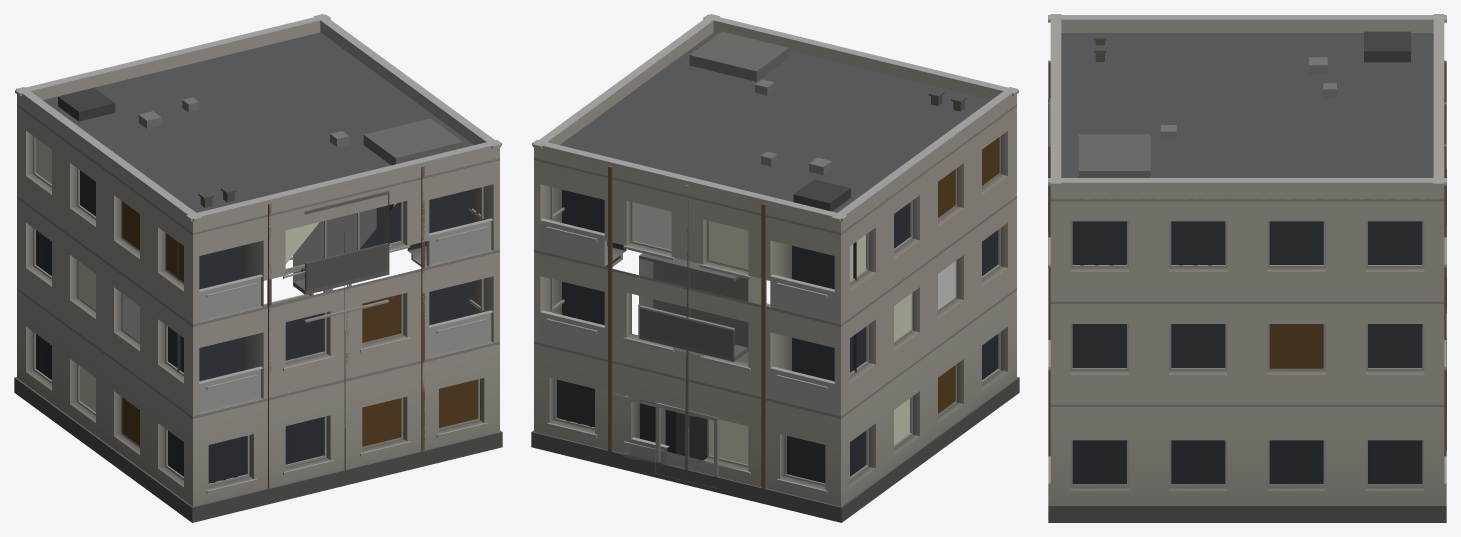
Rendered from building_corner.glb.
3 renders of one model, left to right at view 1: azimuth 30°, elevation 25°; view 2: azimuth 150°, elevation 25°; view 3: azimuth 270°, elevation 25°, orthographic. The views are drawn at different scales.
Parts seen in each view (by area): view 1: building_corner.001; view 2: building_corner.001; view 3: building_corner.001.
Part boxes in pixels (x1,y1,x2,y2): building_corner.001: [14, 14, 502, 522]; building_corner.001: [531, 14, 1019, 522]; building_corner.001: [1048, 14, 1446, 522].
Bounding box in the file's own units: 11.14 × 10.39 × 11.06.
